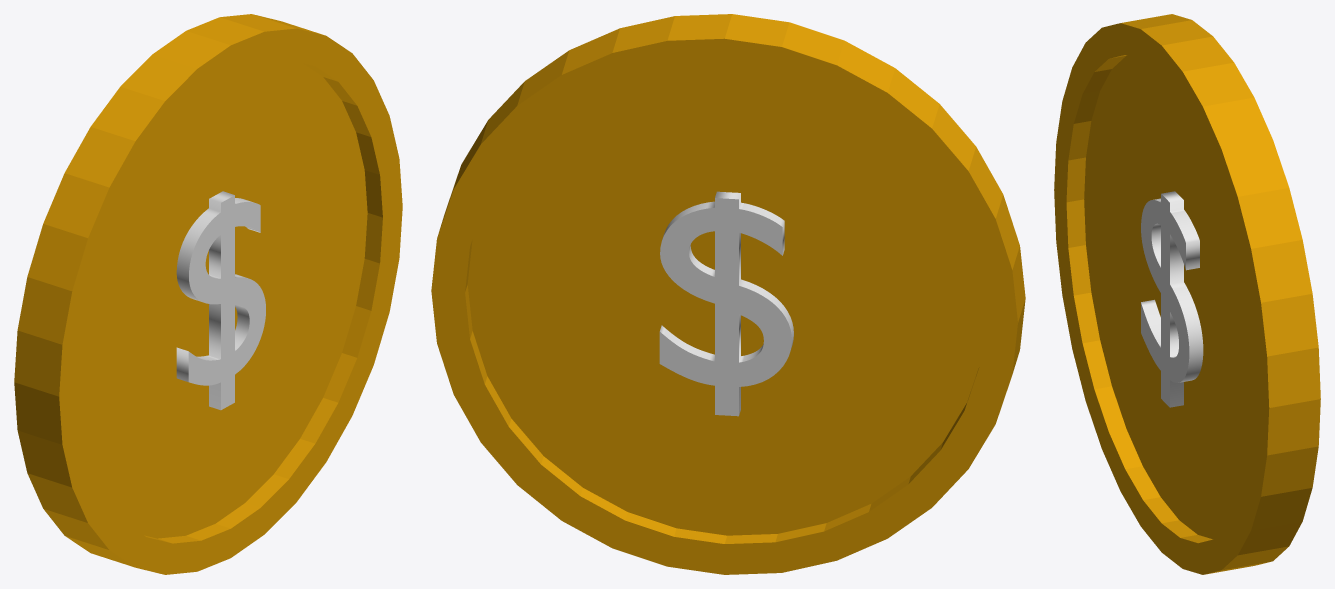
The model's file is CoinModel.fbx.
3 renders of one model, left to right at view 1: azimuth 30°, elevation 25°; view 2: azimuth 150°, elevation 25°; view 3: azimuth 270°, elevation 25°, orthographic. The views are drawn at different scales.
Visible parts, largest first — view 1: Cylinder; view 2: Cylinder; view 3: Cylinder.
Boxes of the visible parts, x1,y1,x2,y2 form: Cylinder: (14,14,402,574); Cylinder: (431,14,1025,574); Cylinder: (1054,14,1320,574).
Bounding box in the file's own units: 192 × 200 × 95.36.
